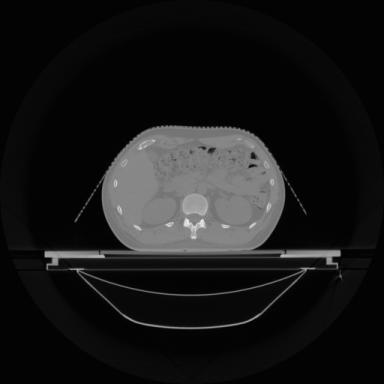body: (103, 126, 285, 251)
cord: (183, 218, 206, 239)
